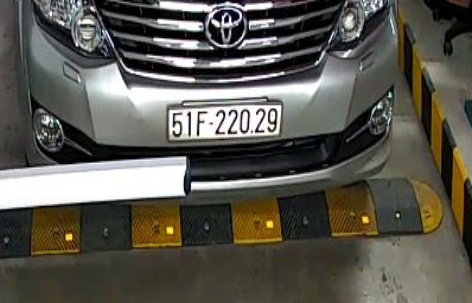plate: (165, 101, 284, 139)
